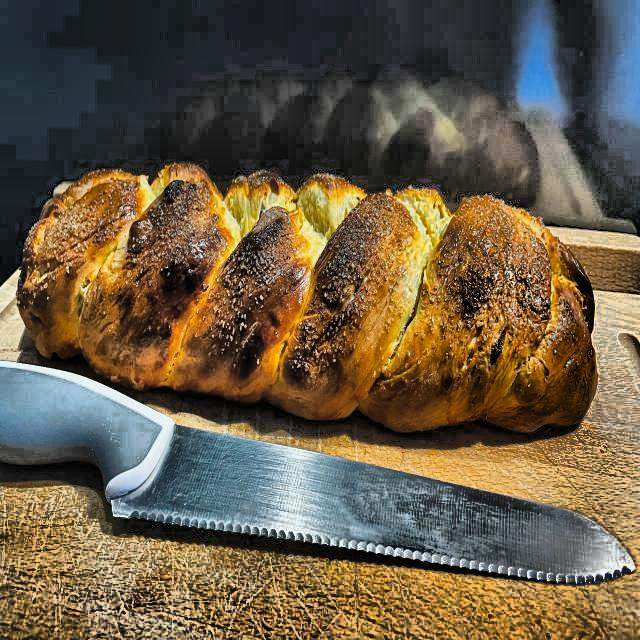knife: (3, 349, 637, 592)
